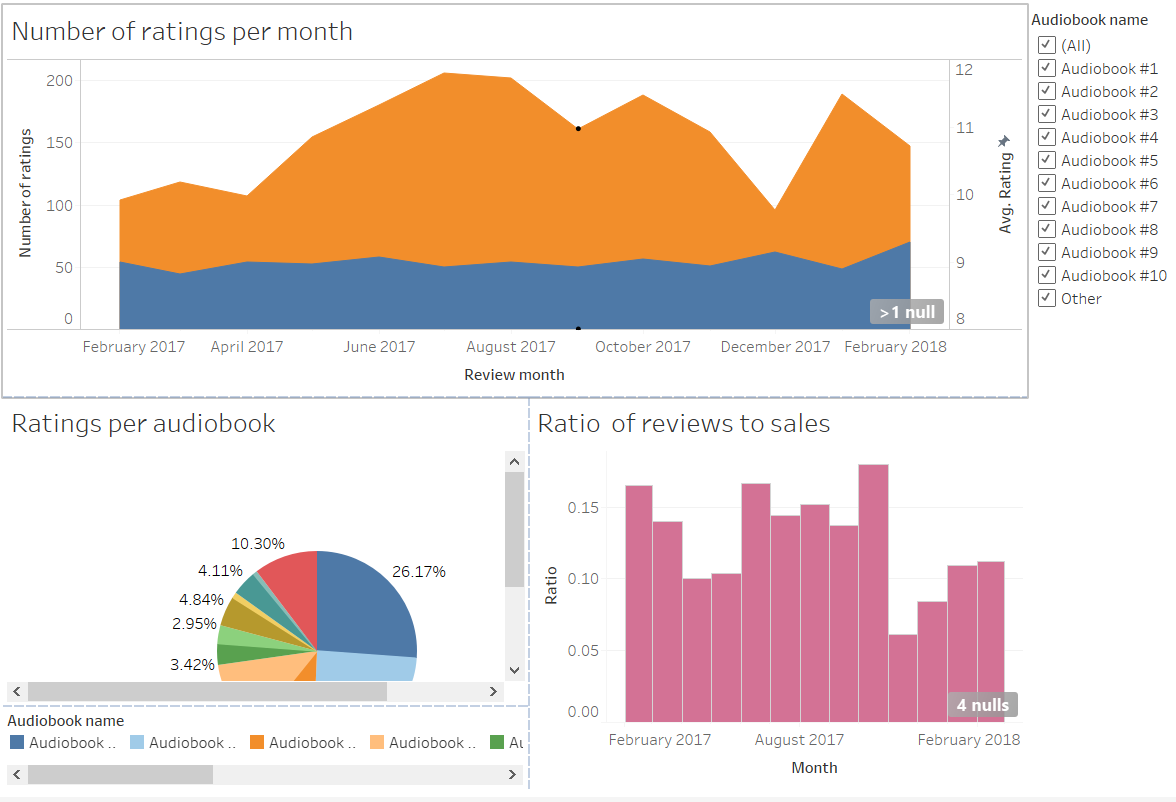

Layout of this report page (visuals, bound fields, positions):
{"tool":"tableau","page":{"name":"Dashboard 1","canvas":[1200,800],"ordinal":0},"visuals":[{"type":"worksheet","box":[0,0,1200,800]},{"type":"worksheet","param":"horz","box":[8,8,1184,784]},{"type":"worksheet","param":"horz","box":[8,8,1024,784]},{"type":"worksheet","box":[8,8,1024,784]},{"type":"worksheet","title":"Chart 1","mark":"Area","rows":["Rating","Rating"],"cols":["Review Date"],"box":[8,8,1024,392]},{"type":"worksheet","param":"vert","box":[1032,8,160,784]},{"type":"worksheet","title":"Chart 2","mark":"Pie","param":"[federated.19oit4c0fan1z415iayrg0zr1n5p].[none:Audiobook name:nk]","box":[1032,8,160,260]},{"type":"worksheet","title":"Chart 2","mark":"Pie","box":[8,400,526,309]},{"type":"worksheet","title":"Chart 3","mark":"Bar","rows":["Calculation_421649516220100613"],"cols":["Date of Purchase"],"box":[534,400,498,392]},{"type":"worksheet","title":"Chart 2","mark":"Pie","param":"[federated.19oit4c0fan1z415iayrg0zr1n5p].[none:Audiobook name:nk]","box":[8,709,526,83]}]}

Visuals, with their boxes in screenshot pixels (x1, y1, x2, y2), scaled from the page's 1200x800 canvas onto the 1176x802 screenshot:
worksheet: BBox(0, 0, 1175, 801)
worksheet: BBox(8, 8, 1168, 794)
worksheet: BBox(8, 8, 1011, 794)
worksheet: BBox(8, 8, 1011, 794)
"Chart 1" worksheet (Area marks): BBox(8, 8, 1011, 401)
worksheet: BBox(1011, 8, 1168, 794)
"Chart 2" worksheet (Pie marks): BBox(1011, 8, 1168, 269)
"Chart 2" worksheet (Pie marks): BBox(8, 401, 523, 711)
"Chart 3" worksheet (Bar marks): BBox(523, 401, 1011, 794)
"Chart 2" worksheet (Pie marks): BBox(8, 711, 523, 794)
